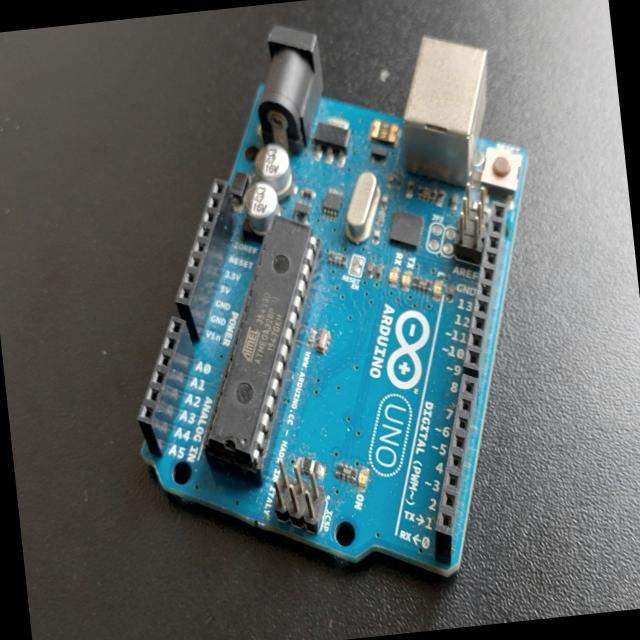arduino: (99, 0, 576, 625)
